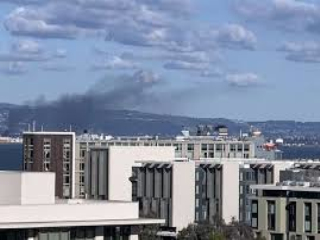smoke: (33, 55, 156, 123)
